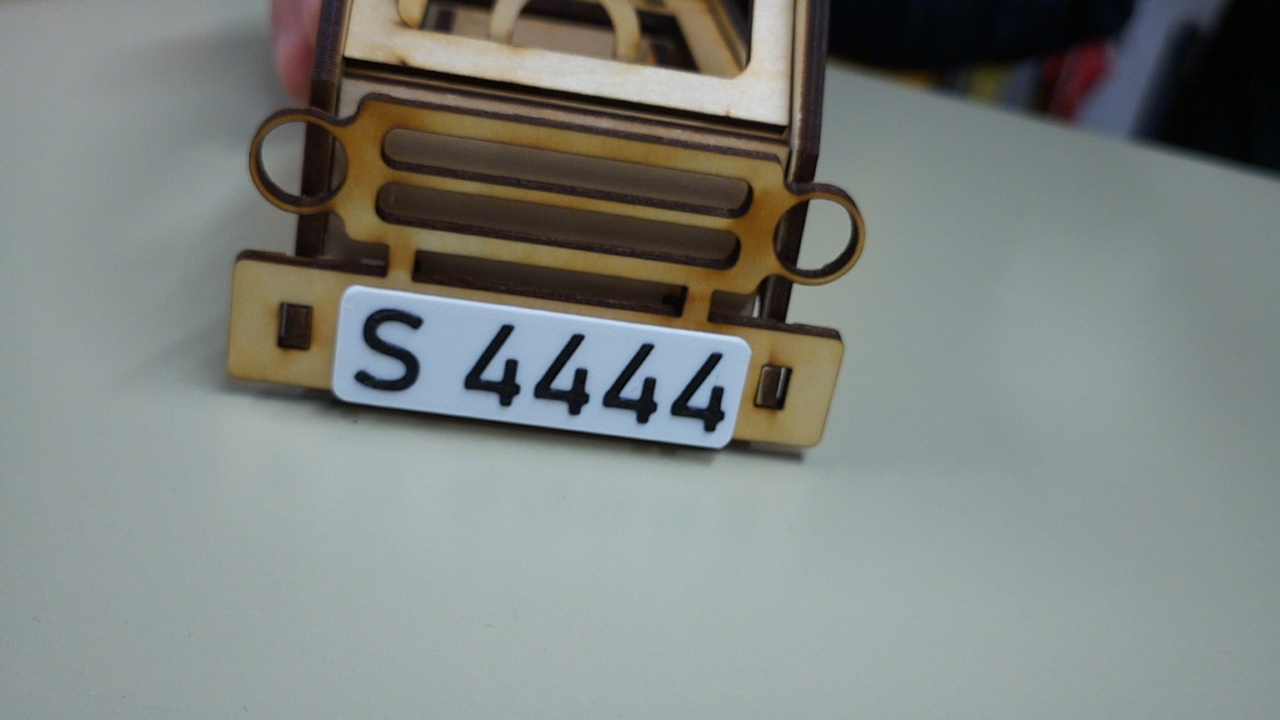license_plate: (329, 279, 755, 455)
